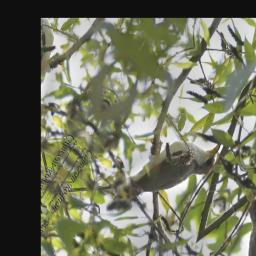Cuckoo: (68, 74, 226, 256)
